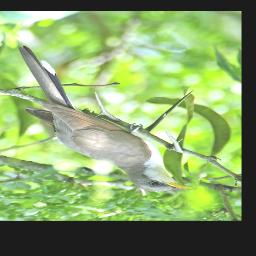Cuckoo: (17, 46, 194, 192)
